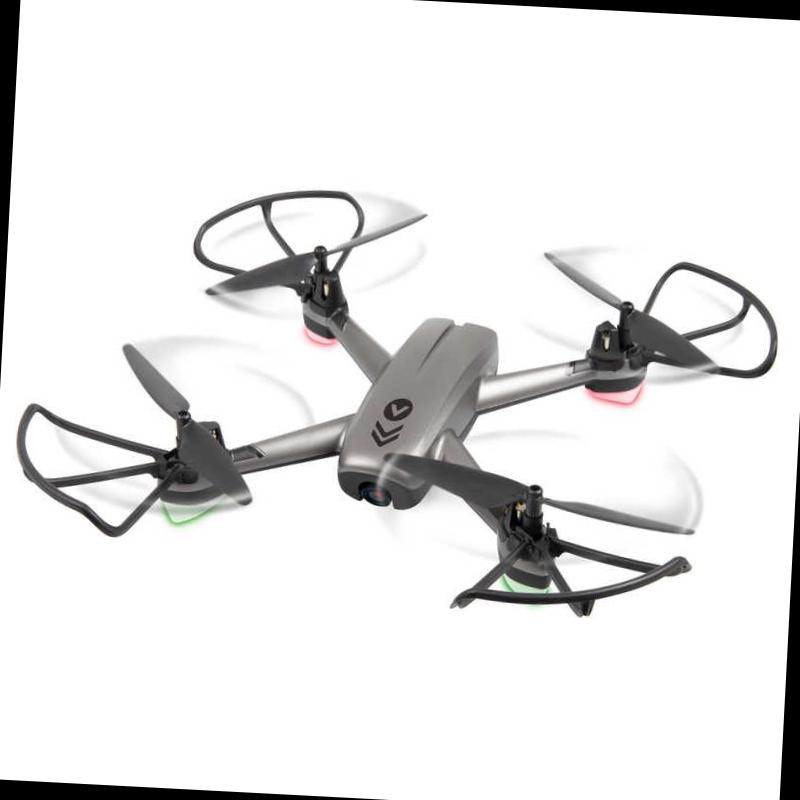drone: (0, 197, 797, 651)
